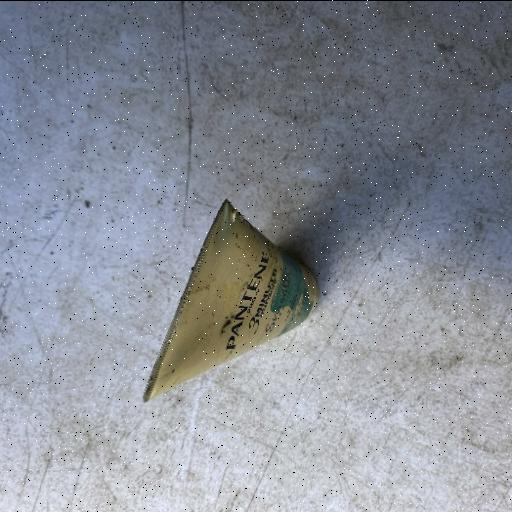Plastic: (140, 196, 322, 404)
